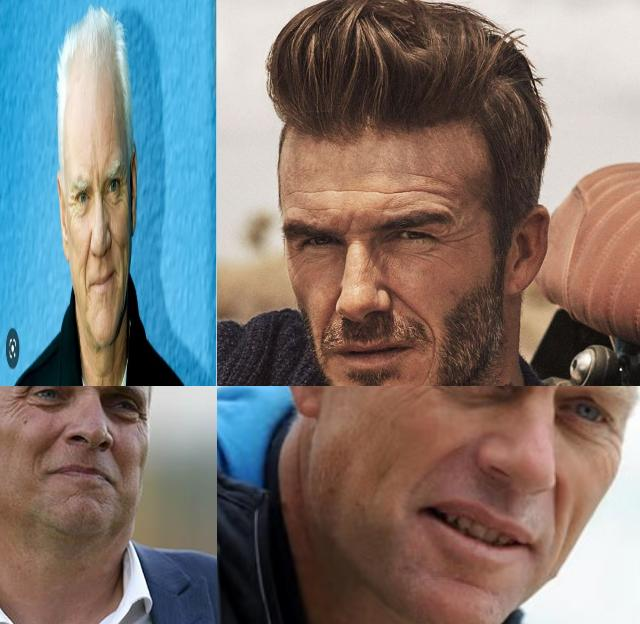bunny_line: (364, 250, 386, 276)
chin: (414, 373, 431, 386)
crows_feet: (602, 423, 624, 457), (7, 386, 28, 413), (438, 229, 460, 249), (288, 253, 304, 273), (119, 173, 128, 205), (137, 408, 147, 433), (68, 187, 76, 213)
forehead: (298, 184, 434, 202), (108, 113, 114, 146)
gummy_smile: (388, 286, 430, 323), (422, 438, 472, 468), (546, 479, 566, 547), (42, 422, 66, 450), (318, 305, 337, 339), (84, 231, 92, 284)
masseter: (121, 250, 127, 301)
sad_smile: (425, 334, 441, 366)
